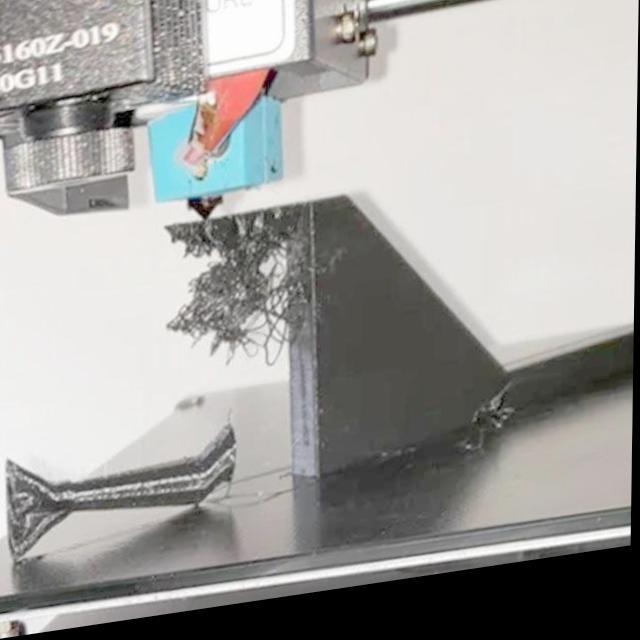spaghetti: (156, 200, 326, 394)
